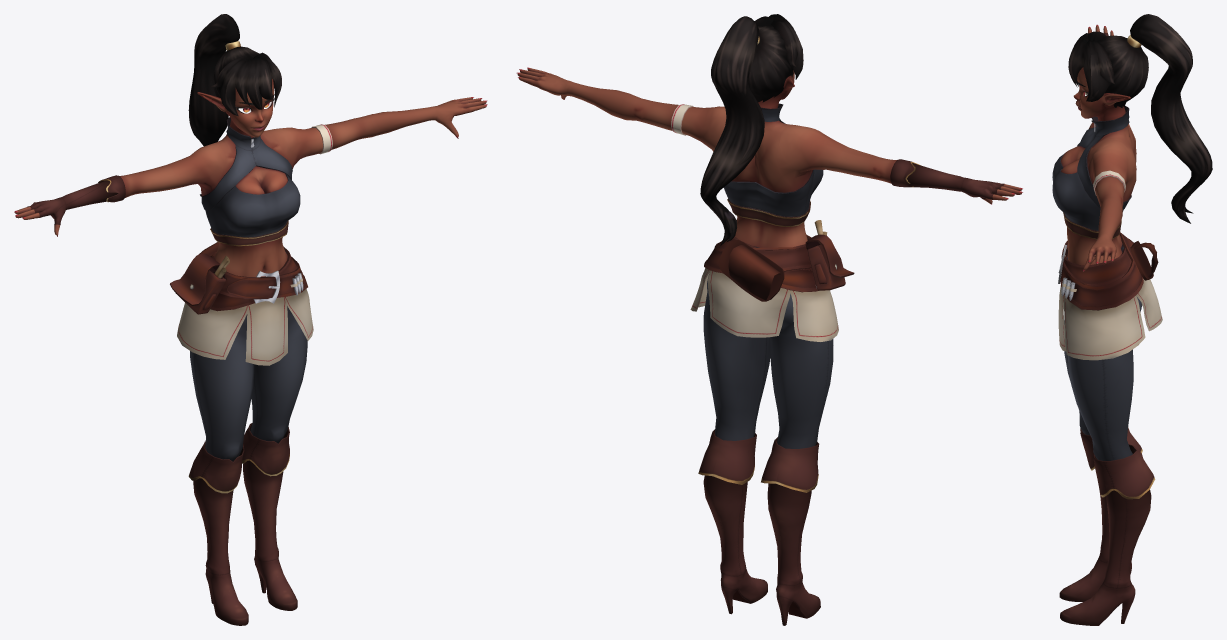
Rendered from AmarisTPose.fbx.
The picture shows the model from 3 angles, left to right: view 1: azimuth 30°, elevation 25°; view 2: azimuth 150°, elevation 25°; view 3: azimuth 270°, elevation 25°; orthographic projection. The views are drawn at different scales.
Parts seen in each view (by area): view 1: Mesh_BodyClothes1, Mesh_Belts_Skirt1, Mesh_PonyTail1, Mesh_FrontBangs1, Satchel1, Mesh_HeadMouth1, Mesh_HairHead1; view 2: Mesh_BodyClothes1, Mesh_Belts_Skirt1, Mesh_PonyTail1, Mesh_ShortHolster1, Mesh_HairHead1, Satchel1, Mesh_FrontBangs1; view 3: Mesh_BodyClothes1, Mesh_Belts_Skirt1, Mesh_PonyTail1, Mesh_HairHead1, Mesh_FrontBangs1, Mesh_HeadMouth1, Mesh_ShortHolster1, Bullets1.
Part boxes in pixels (box(x1,y1,x2,y2)): Mesh_BodyClothes1: box(14, 97, 487, 625); Mesh_Belts_Skirt1: box(177, 246, 313, 365); Mesh_PonyTail1: box(188, 14, 239, 196); Mesh_FrontBangs1: box(211, 52, 281, 116); Satchel1: box(170, 253, 229, 314); Mesh_HeadMouth1: box(197, 79, 274, 137); Mesh_HairHead1: box(213, 41, 259, 98); Mesh_BodyClothes1: box(516, 67, 1022, 625); Mesh_Belts_Skirt1: box(690, 234, 838, 341); Mesh_PonyTail1: box(700, 16, 764, 245); Mesh_ShortHolster1: box(718, 240, 784, 301); Mesh_HairHead1: box(748, 25, 793, 102); Satchel1: box(805, 220, 854, 290); Mesh_FrontBangs1: box(754, 14, 803, 79); Mesh_BodyClothes1: box(1052, 24, 1155, 625); Mesh_Belts_Skirt1: box(1058, 232, 1162, 360); Mesh_PonyTail1: box(1130, 14, 1212, 223); Mesh_HairHead1: box(1097, 35, 1148, 107); Mesh_FrontBangs1: box(1068, 31, 1114, 101); Mesh_HeadMouth1: box(1073, 67, 1130, 121); Mesh_ShortHolster1: box(1130, 241, 1158, 280); Bullets1: box(1061, 277, 1076, 300).
Bounding box in the file's own units: 148 × 172 × 41.86.
Materials: 5 (5 with a texture image).
